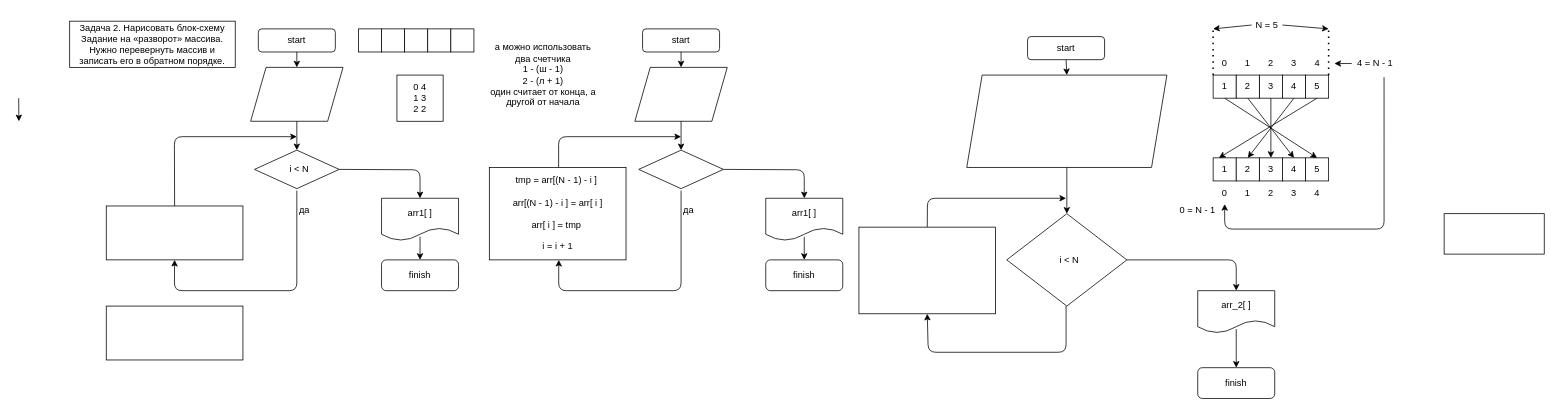
The diagram is 1558 pixels wide and 412 high, and some of its shapes have lost their labels. The centre of each missing label's shape, as x and y in pixels:
"arr_1[(N - 1) - i ] = arr[ i ] i = i + 1" goes at [174,232].
"arr_1[(N - 1)] = arr[ i ] N = N - 1 i = i + 1" goes at [174,332].
"arr_2[ i _2 ] = arr[ i ] i_2 = i_2 - 1 i = i + 1" goes at [927,270].
"i < N/2" goes at [680,169].
"N arr[ ] arr_1[ ] i = 0" goes at [296,94].
"N arr[ ] arr_2[ ] i_2 = N - 1 i = 0" goes at [1066,120].
"N arr[ ] i = 0" goes at [680,94].
